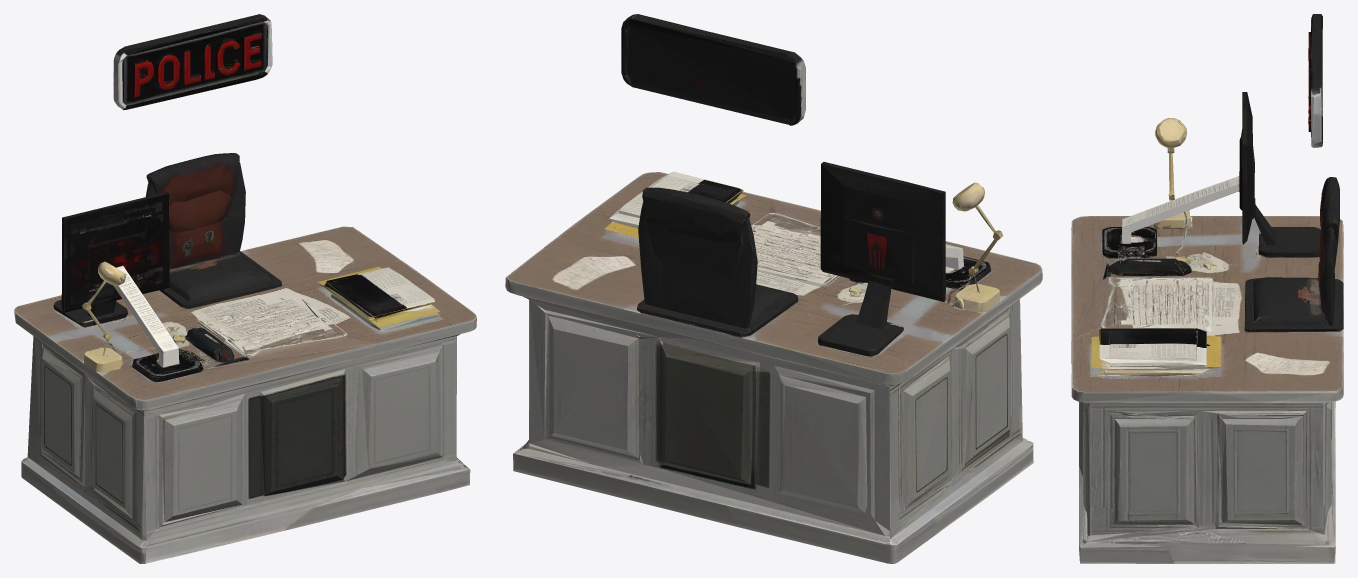
File: guard_desk.glb
The picture shows the model from 3 angles, left to right: view 1: azimuth 30°, elevation 25°; view 2: azimuth 150°, elevation 25°; view 3: azimuth 270°, elevation 25°; orthographic projection. The views are drawn at different scales.
Bounding box in the file's own units: 1.7 × 1.9 × 1.09.
Materials: 1 (1 with a texture image).
